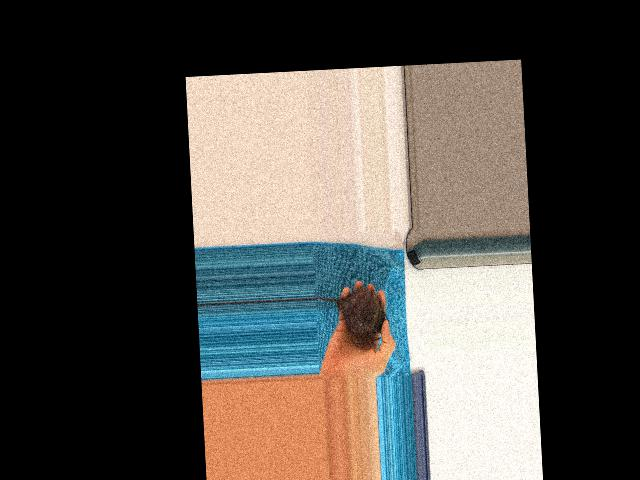beet: (314, 286, 389, 346)
